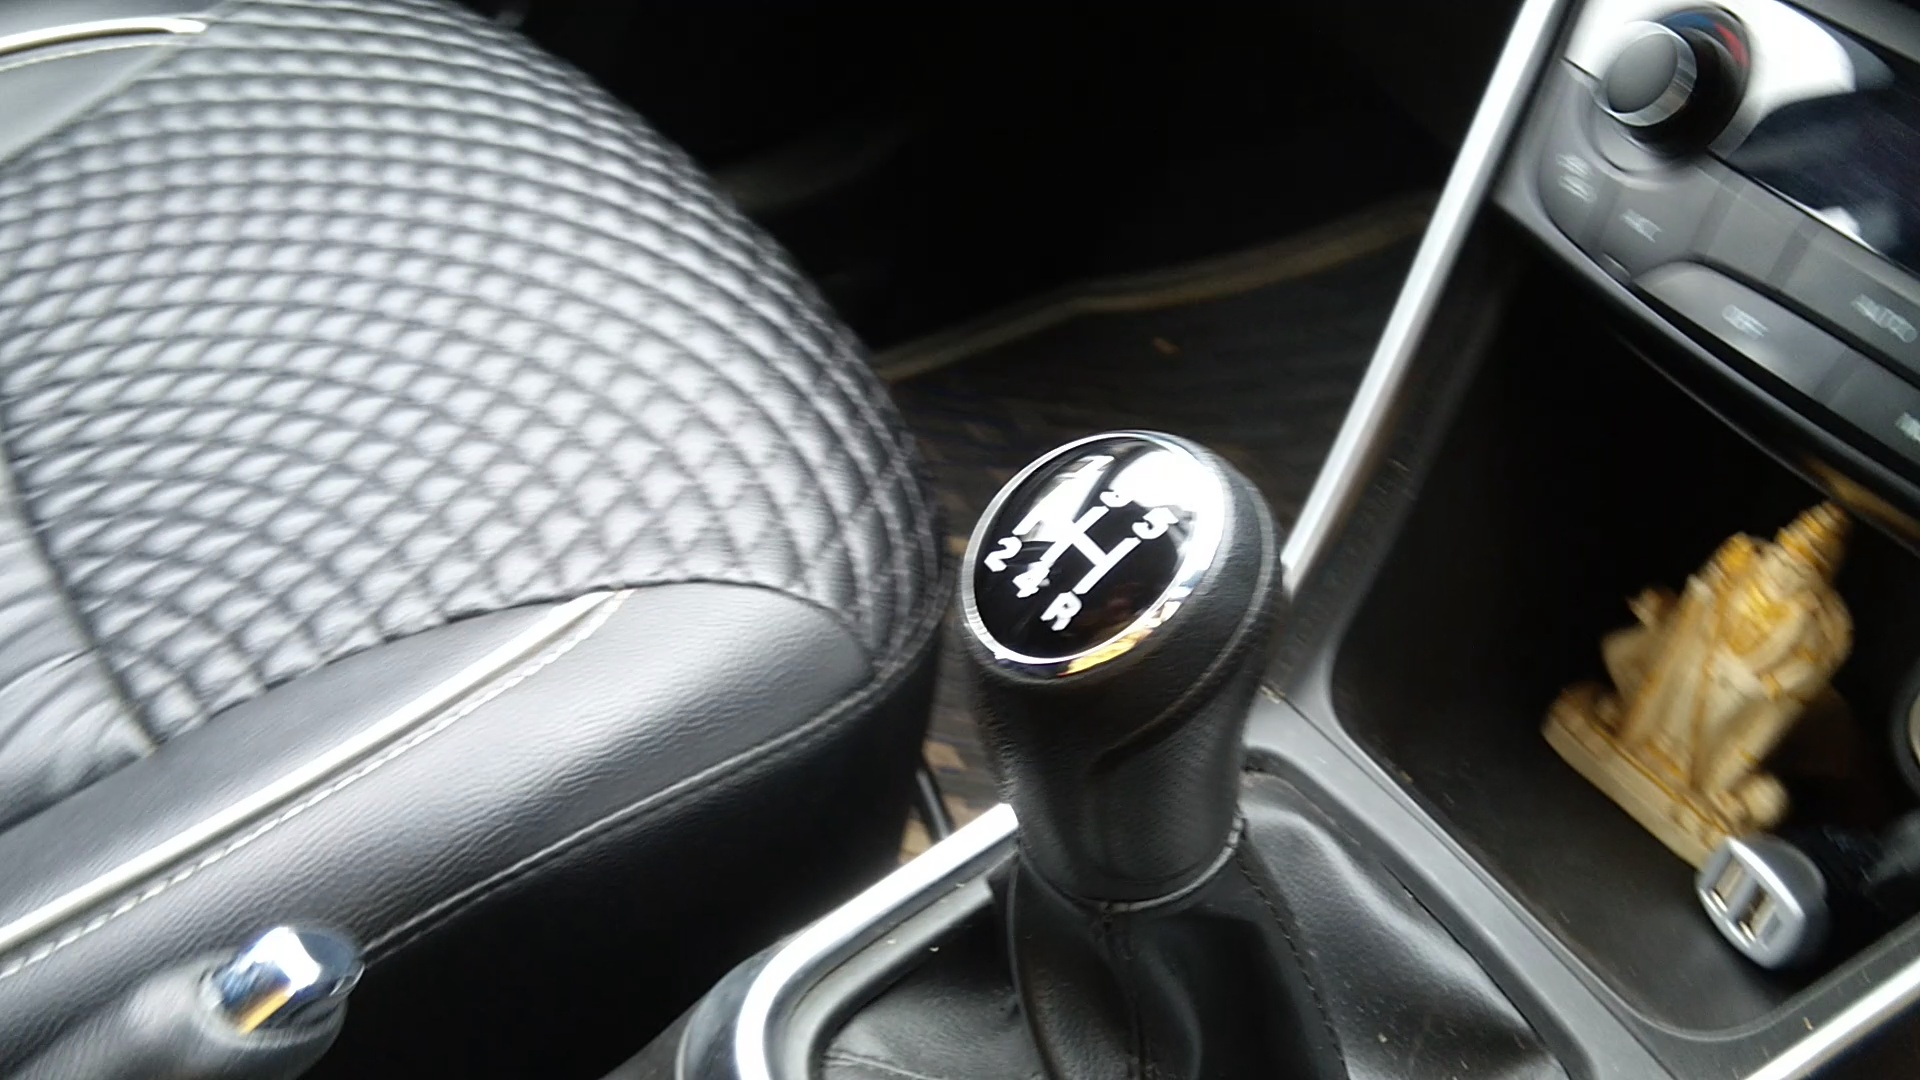manual_gear: (939, 419, 1313, 932)
